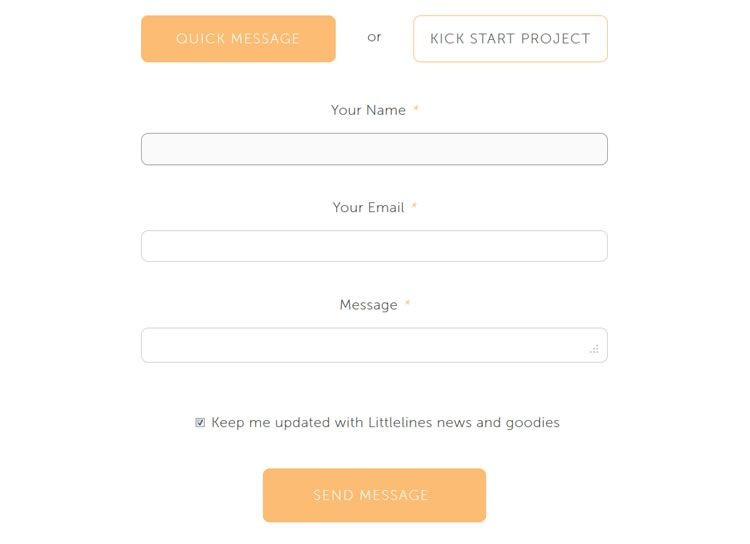_form_: (132, 169, 617, 544), (133, 1, 618, 374)
button: (262, 467, 486, 523), (412, 14, 609, 63), (140, 14, 336, 63)
checkbox: (192, 416, 209, 430)
checkbox_with_label: (189, 413, 562, 432)
field: (141, 327, 608, 364), (140, 229, 609, 263), (140, 132, 608, 166)
field_with_label: (139, 297, 610, 366), (136, 103, 611, 169), (137, 201, 612, 266)
